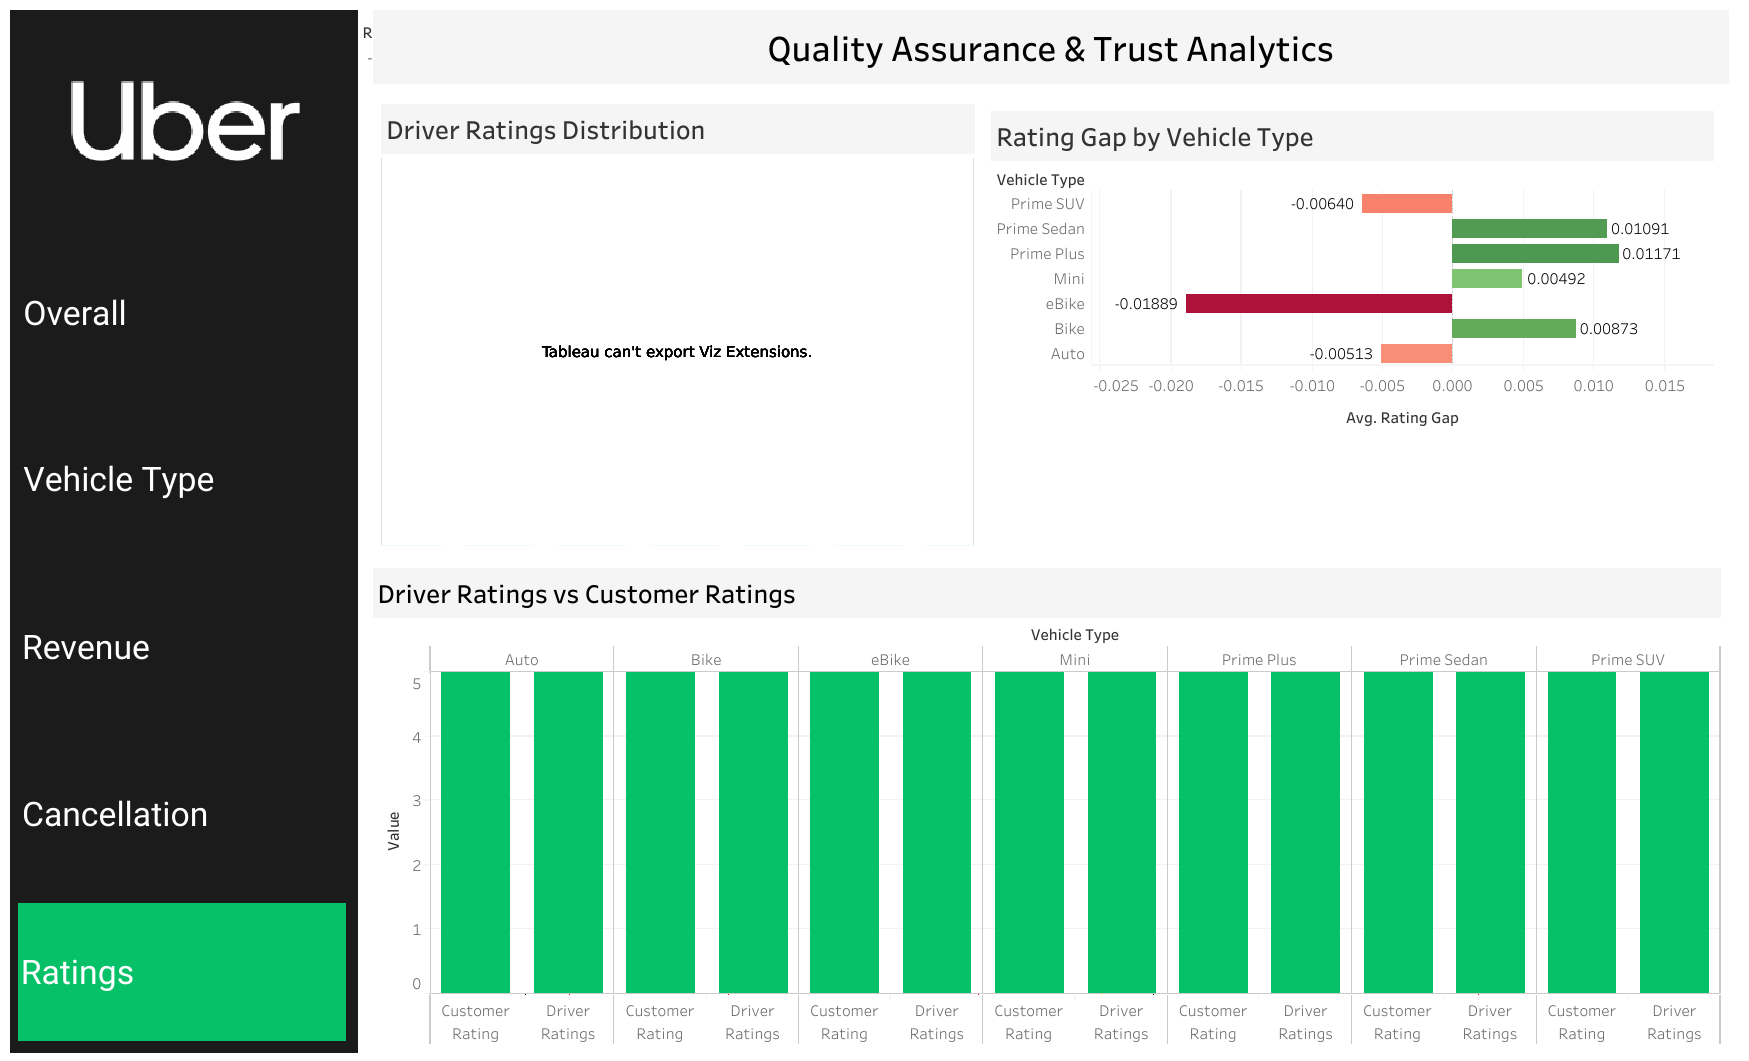

The dashboard page shown, as its layout file describes it:
{"tool":"tableau","page":{"name":"Ratings","canvas":[1400,850],"ordinal":2},"visuals":[{"type":"legend","title":"12","param":"[federated.0e7kj6u0q8riyx1187gro1v1iqjc].[sum:Calculation_1147633509330950:qk]","box":[286,8,1106,73]},{"type":"text","box":[298,8,1085,59]},{"type":"image","param":"Image/Uber-White-Logo.wine.png","box":[15,18,268,158]},{"type":"worksheet","title":"9","mark":"VizExtension","box":[301,79,483,361]},{"type":"worksheet","title":"12","mark":"Bar","rows":["Vehicle_Type"],"cols":["Calculation_1147633509330950"],"box":[789,85,586,350]},{"type":"text","box":[16,186,263,128]},{"type":"text","box":[16,321,262,124]},{"type":"worksheet","title":"13","mark":"Automatic","cols":["Vehicle_Type"],"box":[294,450,1087,390]},{"type":"text","box":[15,453,262,129]},{"type":"text","box":[15,590,262,123]},{"type":"text","box":[14,722,263,111]}]}

Visuals, with their boxes on the page's 1400x850 design canvas (x1, y1, x2, y2). These are canvas units, not pixel positions in the 1749x1061 screenshot, which may show the page scaled, cropped or inside an application window:
"12" legend: x1=286, y1=8, x2=1392, y2=81
text: x1=298, y1=8, x2=1383, y2=67
image: x1=15, y1=18, x2=283, y2=176
"9" worksheet (VizExtension marks): x1=301, y1=79, x2=784, y2=440
"12" worksheet (Bar marks): x1=789, y1=85, x2=1375, y2=435
text: x1=16, y1=186, x2=279, y2=314
text: x1=16, y1=321, x2=278, y2=445
"13" worksheet: x1=294, y1=450, x2=1381, y2=840
text: x1=15, y1=453, x2=277, y2=582
text: x1=15, y1=590, x2=277, y2=713
text: x1=14, y1=722, x2=277, y2=833
